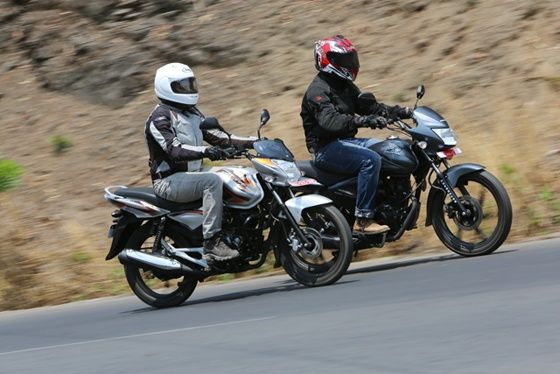helmet: (155, 58, 200, 106), (314, 32, 359, 80)
